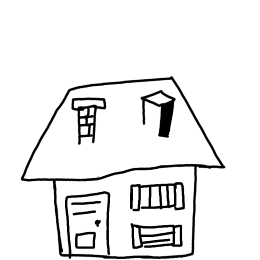bottom_placed_house: (1, 1, 260, 260)
chimney: (132, 86, 179, 147), (65, 92, 112, 151)
closed_window: (120, 178, 187, 215), (125, 217, 185, 251)
door: (63, 189, 119, 260)
roof: (12, 72, 238, 184)
wall: (41, 162, 209, 260)
